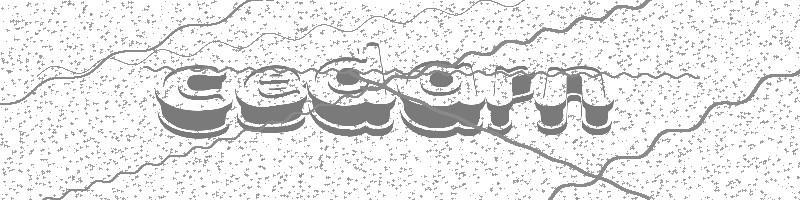a: (398, 60, 484, 137)
c: (154, 63, 233, 140)
d: (307, 41, 398, 137)
e: (235, 64, 308, 134)
n: (536, 65, 615, 136)
r: (485, 64, 536, 138)
